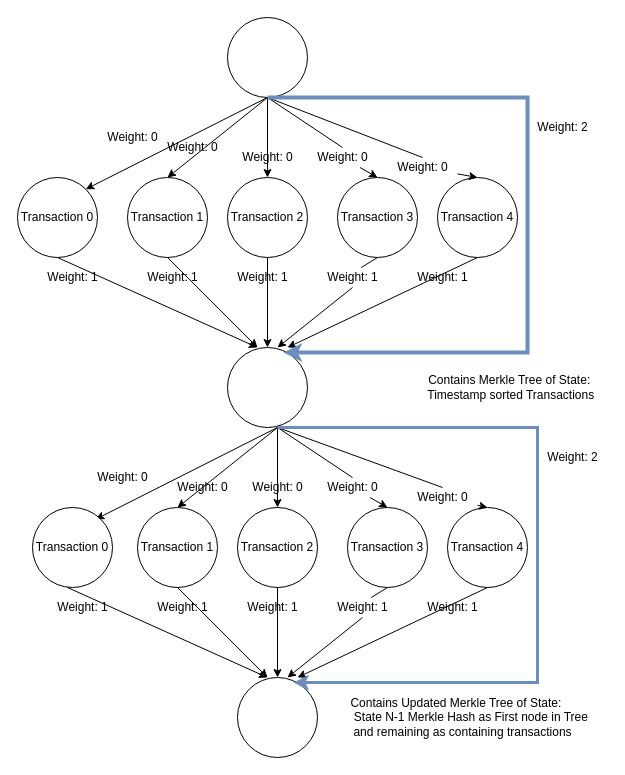
The diagram is 625 pixels wide and 775 high, and some of its shapes have lost their labels. The shapes that lost their labels are listed below. From the top down, each one's centre as x and y in pixels, then its label:
At [267,57]: "Epoch 0".
At [267,387]: "Epoch 1".
At [277,717]: "Epoch 2".
